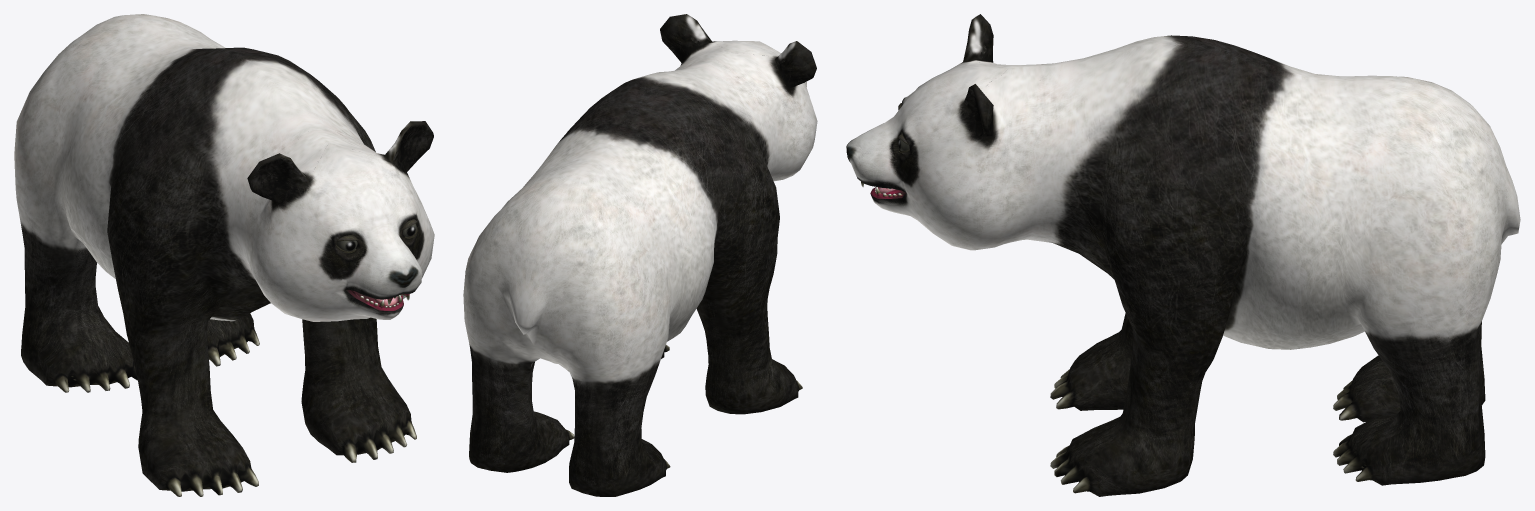
File: bear.gltf
3 views of the same model, side by side, from view 1: azimuth 30°, elevation 25°; view 2: azimuth 150°, elevation 25°; view 3: azimuth 270°, elevation 25° (orthographic). The views are drawn at different scales.
Visible parts, largest first — view 1: 熊猫01; view 2: 熊猫01; view 3: 熊猫01.
Boxes of the visible parts, x1,y1,x2,y2 form: 熊猫01: (14, 14, 434, 496); 熊猫01: (463, 14, 817, 496); 熊猫01: (846, 14, 1520, 496).
Size of the model in its own units: 0.653 by 0.908 by 1.42.
Materials: 1 (1 with a texture image).
